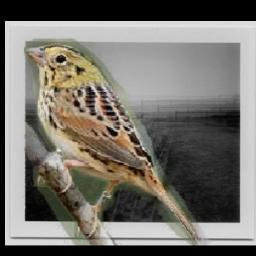Sparrow: (23, 39, 211, 245)
